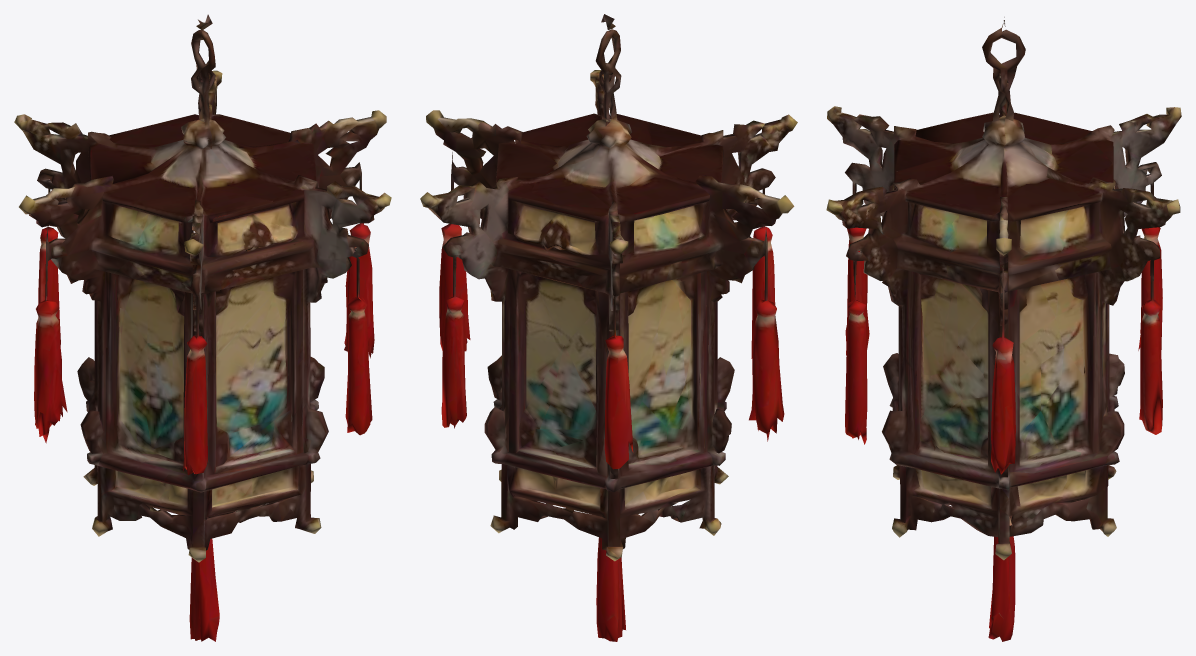
Rendered from gongdeng.glb.
3 renders of one model, left to right at view 1: azimuth 30°, elevation 25°; view 2: azimuth 150°, elevation 25°; view 3: azimuth 270°, elevation 25°, orthographic.
Visible parts, largest first — view 1: tripo_node_402bf719-e0cd-410c-a736-f990b186cd74; view 2: tripo_node_402bf719-e0cd-410c-a736-f990b186cd74; view 3: tripo_node_402bf719-e0cd-410c-a736-f990b186cd74.
Part boxes in pixels (box(x1,y1,x2,y2)): tripo_node_402bf719-e0cd-410c-a736-f990b186cd74: box(14, 14, 391, 641); tripo_node_402bf719-e0cd-410c-a736-f990b186cd74: box(420, 14, 797, 641); tripo_node_402bf719-e0cd-410c-a736-f990b186cd74: box(826, 17, 1181, 641).
Bounding box in the file's own units: 0.6182 × 1 × 0.5169.
1 material, 1 textured.
